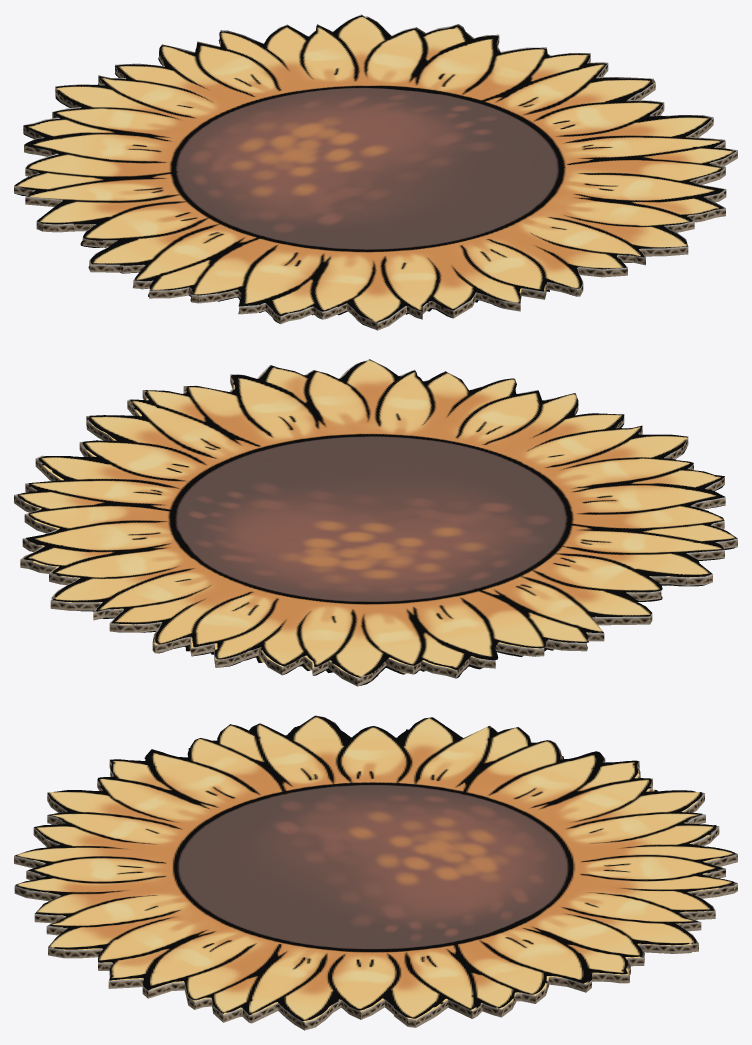
File: sprite_yellow_flower.fbx
3 views of the same model, one above another, from view 1: azimuth 30°, elevation 25°; view 2: azimuth 150°, elevation 25°; view 3: azimuth 270°, elevation 25° (orthographic). The views are drawn at different scales.
Visible parts, largest first — view 1: Cube; view 2: Cube; view 3: Cube.
Part boxes in pixels (x1=…): Cube: x1=14, y1=14, x2=737, y2=330; Cube: x1=14, y1=359, x2=737, y2=686; Cube: x1=14, y1=715, x2=737, y2=1030.
Size of the model in its own units: 323 by 4 by 322.
